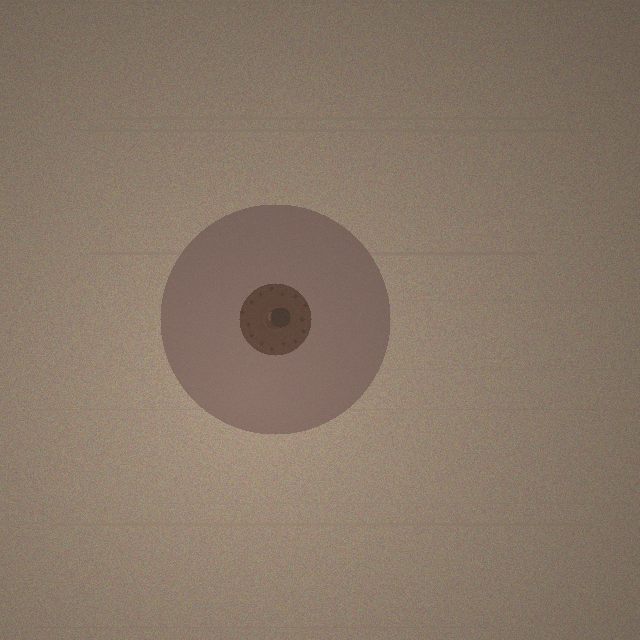cold_weld: (160, 204, 390, 434)
